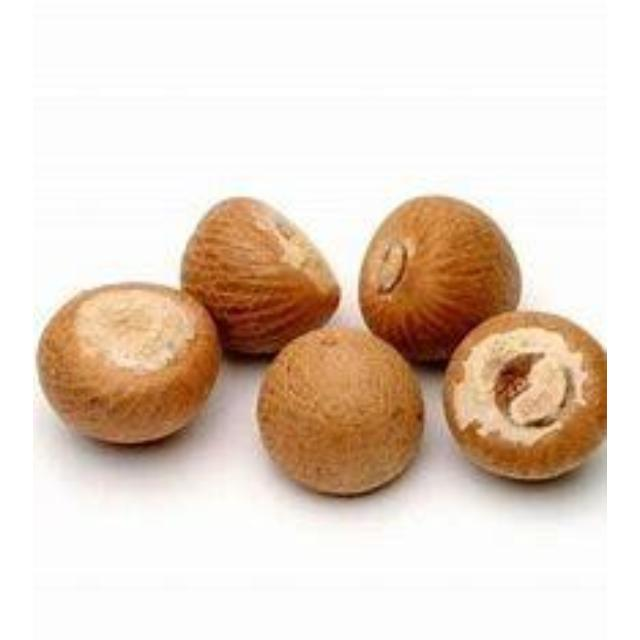good: (36, 284, 224, 449), (257, 331, 421, 498), (443, 312, 605, 481), (364, 200, 523, 366), (178, 200, 342, 358)
